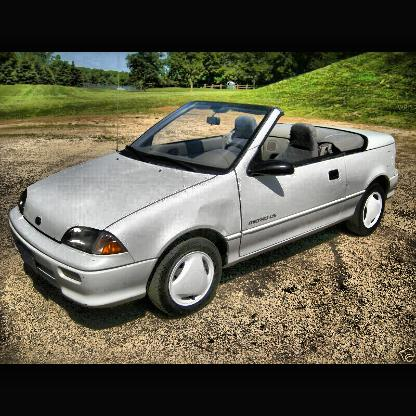Geo Metro Convertible 1993: (9, 102, 400, 319)
